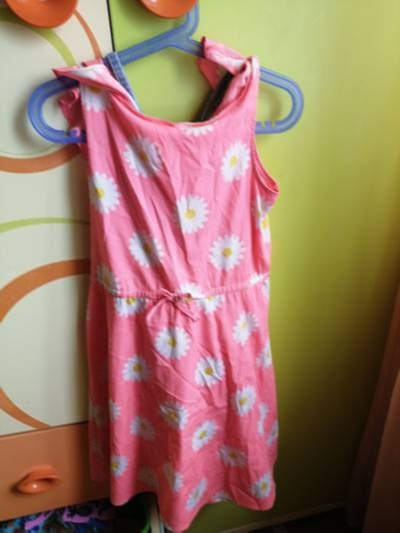Dress: (30, 21, 307, 521)
